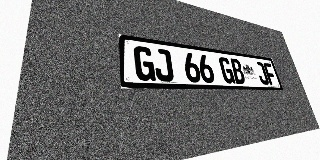6: (182, 52, 202, 83), (197, 54, 216, 83)
B: (229, 58, 246, 84)
F: (263, 63, 278, 85)
G: (133, 45, 156, 81), (218, 57, 236, 84)
J: (153, 48, 174, 82), (254, 61, 270, 85)
